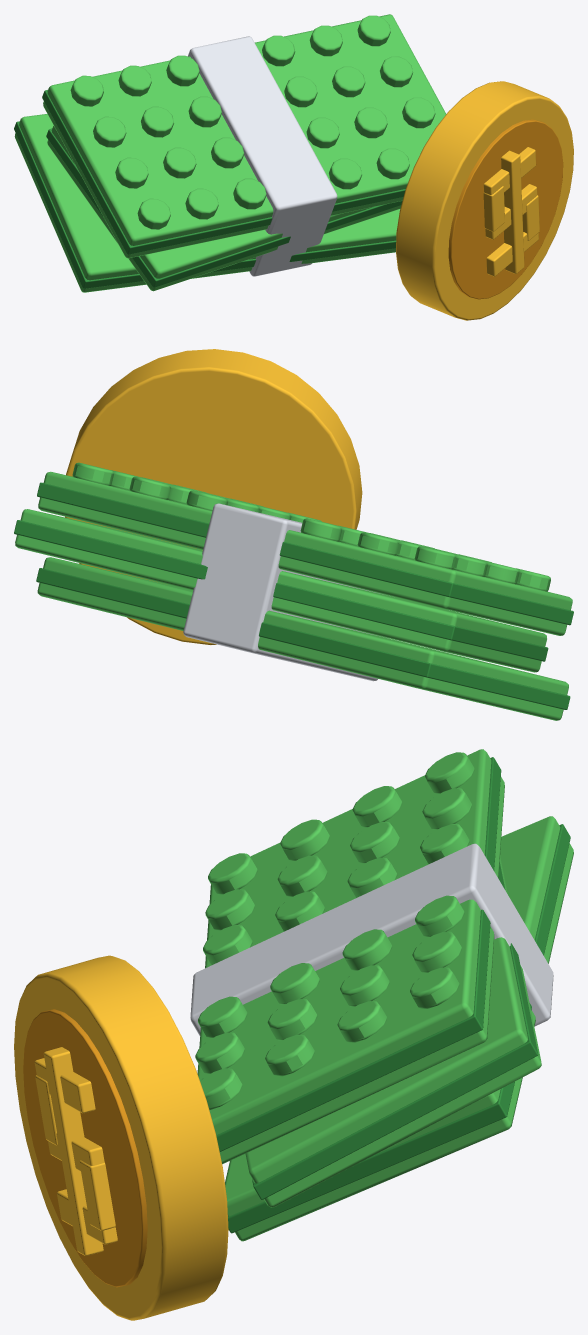
The model's file is Cash.fbx.
The picture shows the model from 3 angles, top to bottom: view 1: azimuth 30°, elevation 25°; view 2: azimuth 150°, elevation 25°; view 3: azimuth 270°, elevation 25°; orthographic projection. The views are drawn at different scales.
Parts seen in each view (by area): view 1: Cash_SmoothPlastic, Cash_Foil; view 2: Cash_SmoothPlastic, Cash_Foil; view 3: Cash_SmoothPlastic, Cash_Foil.
Part boxes in pixels (left/top/right/bottom): Cash_SmoothPlastic: left=14, top=14, right=446, bottom=292; Cash_Foil: left=396, top=81, right=573, bottom=320; Cash_SmoothPlastic: left=14, top=462, right=573, bottom=720; Cash_Foil: left=65, top=349, right=362, bottom=645; Cash_SmoothPlastic: left=190, top=749, right=573, bottom=1241; Cash_Foil: left=14, top=955, right=228, bottom=1320.
Size of the model in its own units: 1.9 by 0.901 by 1.37.
Materials: 2 (2 with a texture image).
